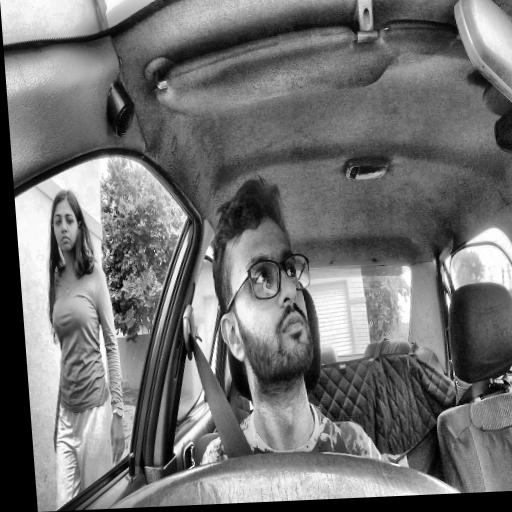awake: (205, 167, 319, 395)
